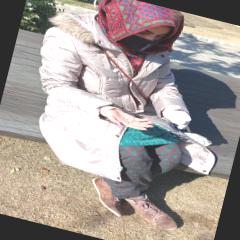gloved: (156, 102, 192, 130)
not-gloved: (107, 110, 154, 134)
